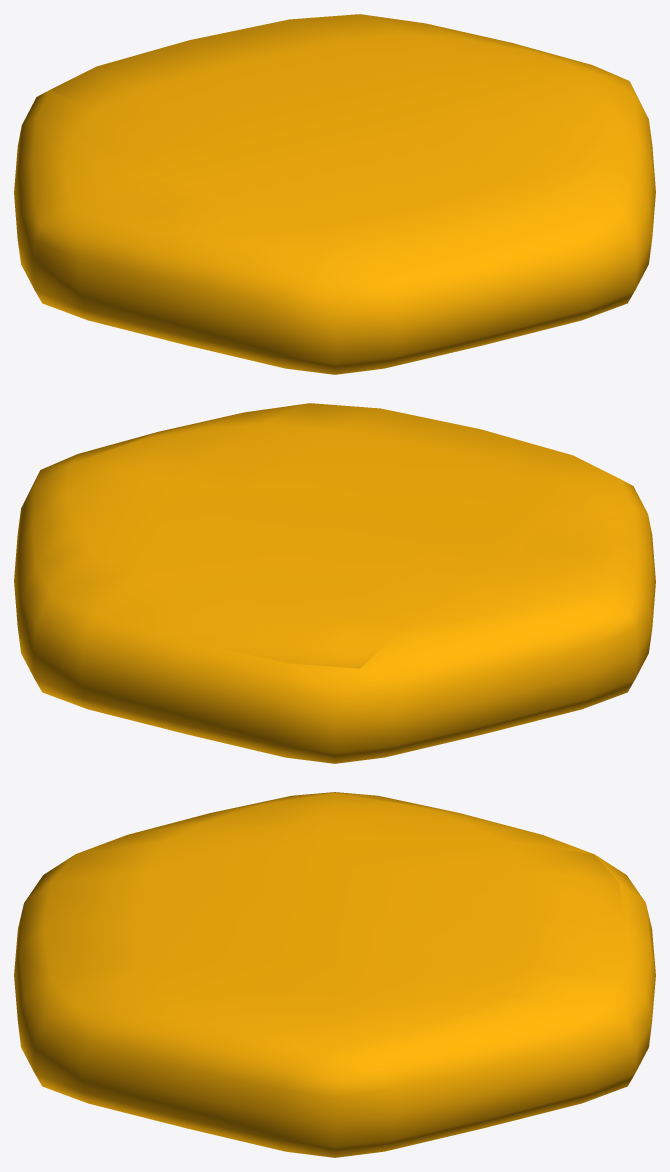
The model's file is Gem.fbx.
3 renders of one model, top to bottom at view 1: azimuth 30°, elevation 25°; view 2: azimuth 150°, elevation 25°; view 3: azimuth 270°, elevation 25°, orthographic.
Parts seen in each view (by area): view 1: Cube; view 2: Cube; view 3: Cube.
Part boxes in pixels (box(x1,y1,x2,y2)): Cube: box(14, 14, 655, 374); Cube: box(14, 403, 655, 763); Cube: box(14, 792, 655, 1157).
Size of the model in its own units: 197 by 38.12 by 181.
